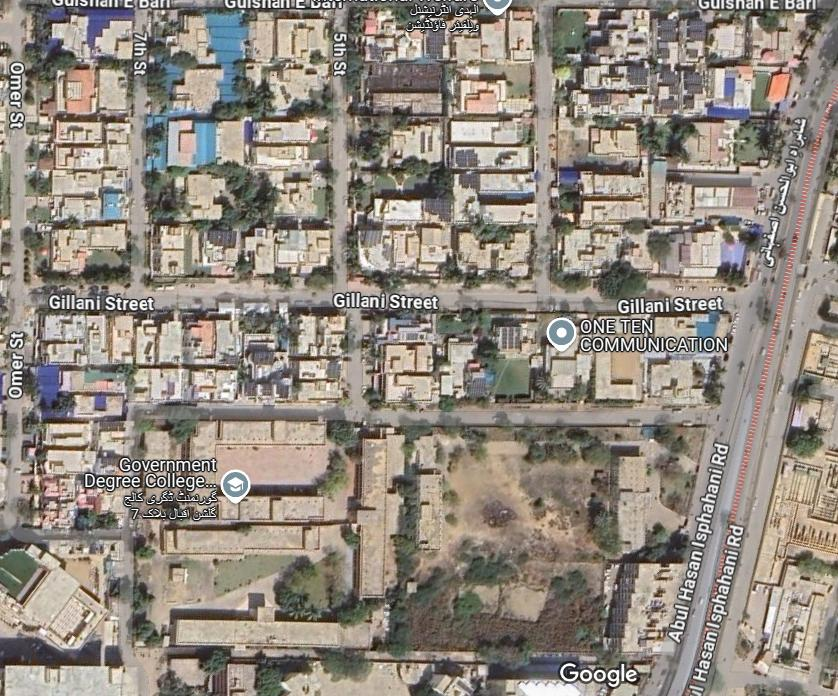Buildings: (16, 422, 705, 655), (553, 9, 829, 290), (146, 7, 334, 280), (346, 9, 534, 273), (363, 312, 733, 406), (31, 305, 346, 408), (32, 11, 129, 282)
